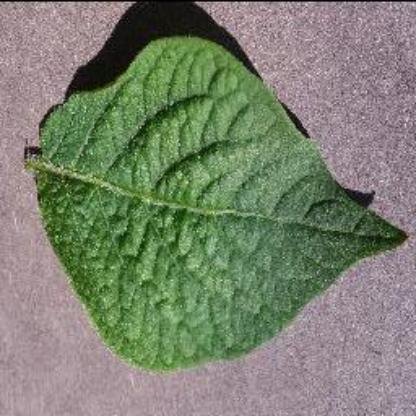Healthy-plant: (26, 29, 413, 379)
